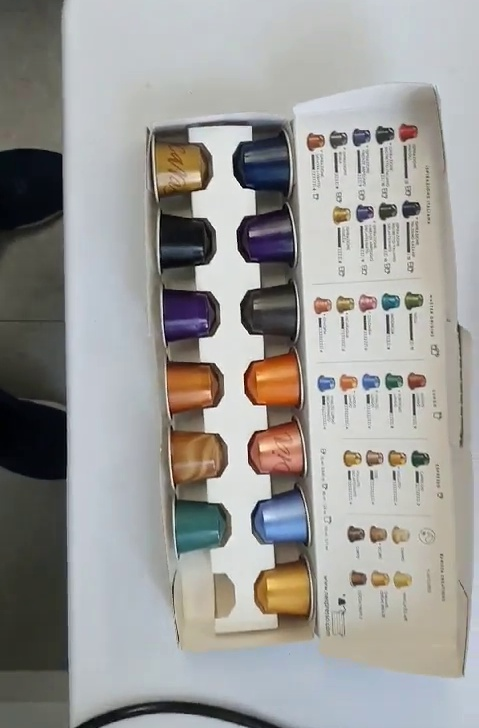capsule_9: (147, 132, 212, 204)
